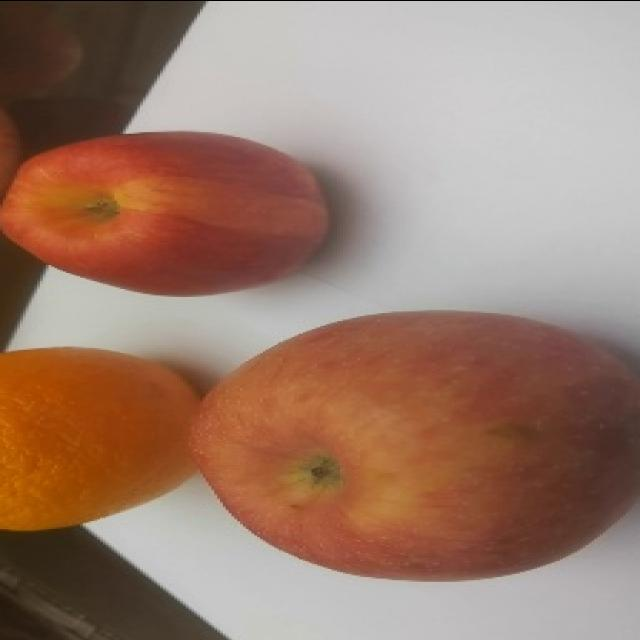Apple: (190, 309, 640, 583), (0, 130, 340, 300)
Orange: (0, 343, 212, 540)
